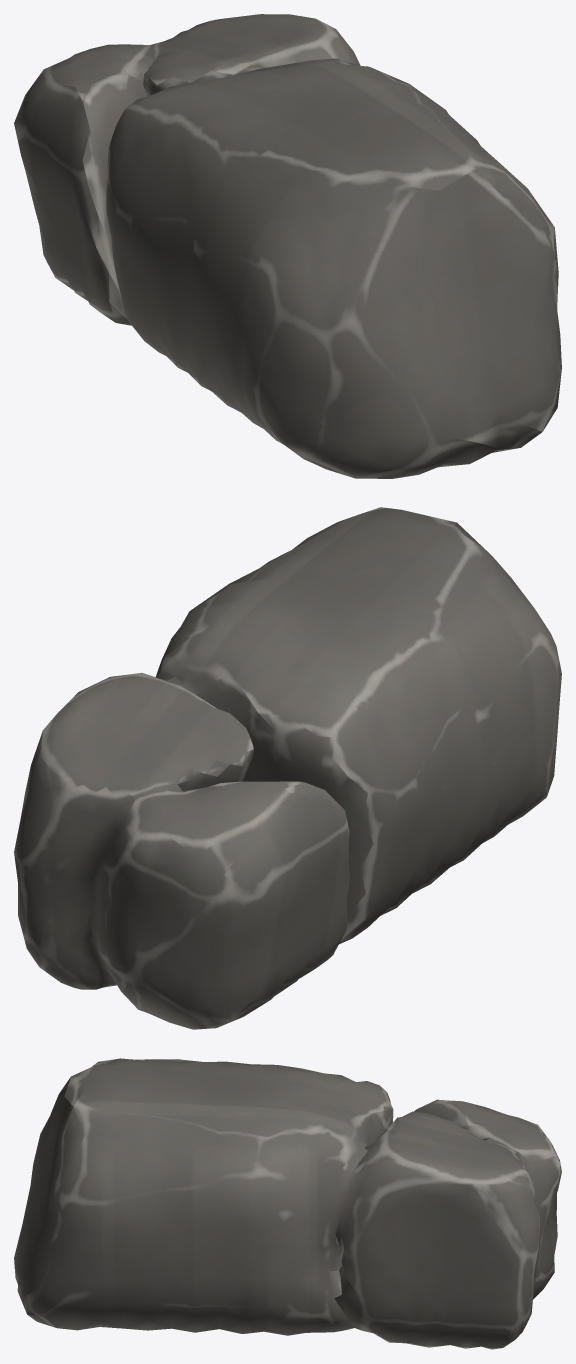
Rendered from SM_rock_small_02.glb.
The picture shows the model from 3 angles, top to bottom: view 1: azimuth 30°, elevation 25°; view 2: azimuth 150°, elevation 25°; view 3: azimuth 270°, elevation 25°; orthographic projection. The views are drawn at different scales.
Visible parts, largest first — view 1: SM_rock_small_02; view 2: SM_rock_small_02; view 3: SM_rock_small_02.
Part boxes in pixels (x1=…): SM_rock_small_02: x1=14, y1=14, x2=561, y2=478; SM_rock_small_02: x1=14, y1=507, x2=561, y2=1029; SM_rock_small_02: x1=14, y1=1058, x2=561, y2=1349.
Size of the model in its own units: 0.7582 by 0.7912 by 1.61.
1 material, 1 textured.
